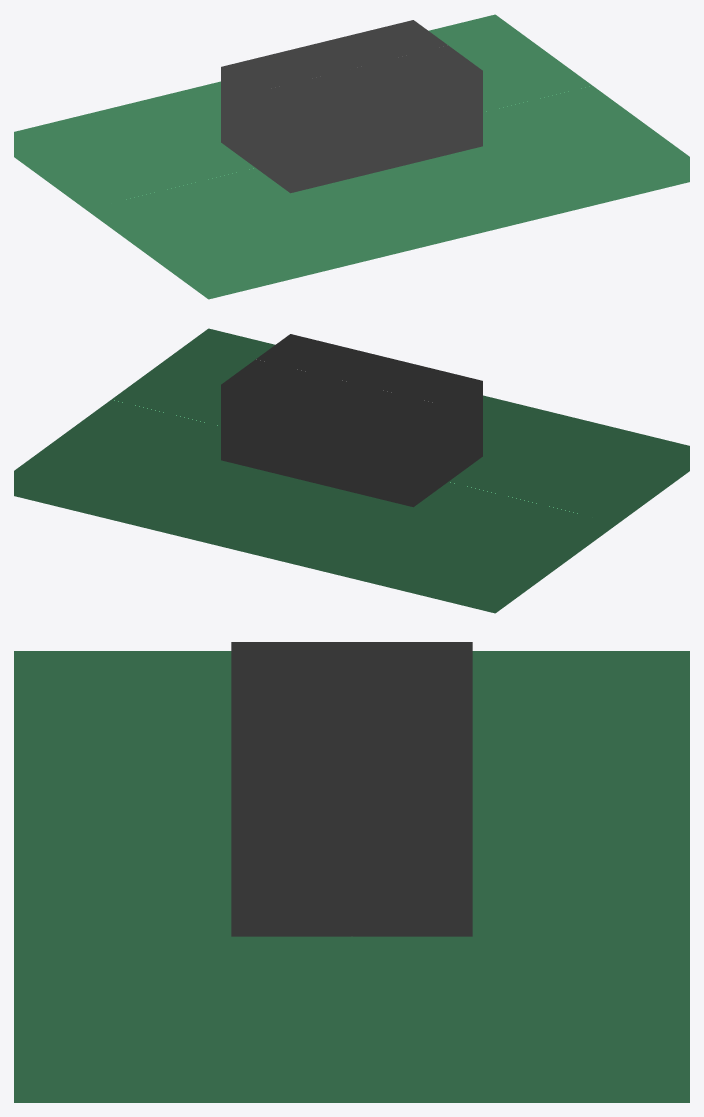
Rendered from signal_processing_filter.glb.
3 views of the same model, one above another, from view 1: azimuth 30°, elevation 25°; view 2: azimuth 150°, elevation 25°; view 3: azimuth 270°, elevation 25° (orthographic). The views are drawn at different scales.
Visible parts, largest first — view 1: ActiveFilterModulePCB, DualOpAmpChip; view 2: ActiveFilterModulePCB, DualOpAmpChip; view 3: ActiveFilterModulePCB, DualOpAmpChip.
Boxes of the visible parts, <box> form: ActiveFilterModulePCB: <box>14,14,689,299</box>; DualOpAmpChip: <box>221,20,482,193</box>; ActiveFilterModulePCB: <box>14,328,689,613</box>; DualOpAmpChip: <box>221,334,482,507</box>; ActiveFilterModulePCB: <box>14,651,689,1102</box>; DualOpAmpChip: <box>231,642,472,936</box>.
Size of the model in its own units: 2 by 0.4 by 1.4.
